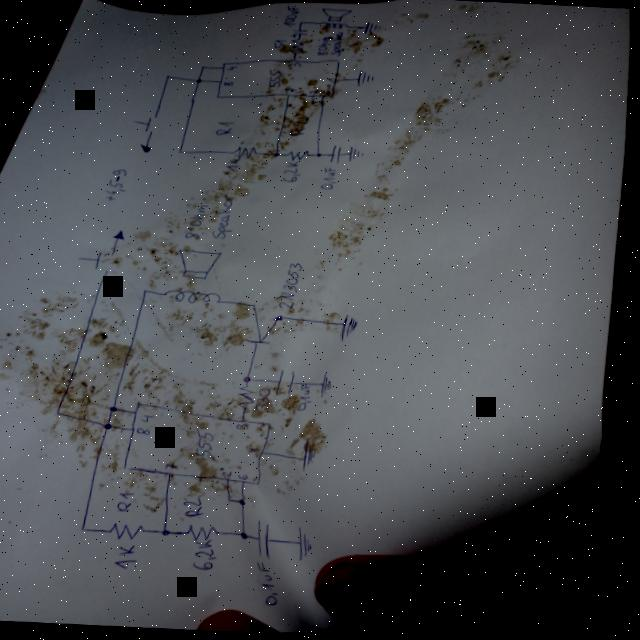capacitor: (258, 517, 287, 561), (276, 369, 300, 396), (329, 145, 344, 166), (289, 28, 309, 39)
ground: (301, 527, 323, 563), (305, 438, 325, 474), (342, 314, 364, 344), (361, 21, 383, 45), (355, 69, 377, 90), (325, 373, 340, 400), (347, 146, 367, 165)
junction: (165, 527, 178, 539), (245, 375, 258, 385), (106, 422, 120, 431), (245, 532, 256, 541), (112, 404, 123, 413), (271, 151, 282, 160), (84, 525, 95, 534), (314, 151, 324, 160), (244, 499, 253, 508), (231, 497, 240, 505), (177, 149, 186, 156), (195, 78, 203, 85), (164, 73, 171, 80), (144, 289, 151, 295), (60, 410, 66, 417), (200, 65, 206, 70), (320, 102, 326, 106), (311, 100, 317, 104), (298, 21, 304, 25)
resistor: (112, 521, 153, 543), (191, 525, 228, 544), (230, 144, 261, 161), (238, 387, 260, 409), (284, 149, 310, 164), (287, 39, 304, 57)
source: (113, 228, 130, 243), (138, 141, 156, 155)
switch: (75, 247, 119, 277), (130, 114, 160, 136)
text: (258, 561, 291, 606), (279, 261, 307, 311), (212, 193, 241, 241), (186, 203, 213, 242), (197, 538, 226, 573), (104, 168, 130, 203), (197, 427, 223, 461), (186, 487, 212, 520), (119, 484, 145, 515), (119, 542, 146, 571), (298, 385, 318, 414), (320, 166, 340, 193), (289, 116, 311, 138), (258, 387, 277, 412), (283, 162, 303, 185), (330, 31, 346, 59), (215, 119, 238, 138), (266, 68, 285, 89), (283, 5, 299, 29), (316, 36, 330, 57), (225, 158, 244, 173), (168, 460, 186, 472), (272, 38, 288, 51), (139, 425, 157, 436), (144, 414, 160, 425), (239, 424, 255, 433), (241, 472, 256, 481), (227, 469, 240, 479), (284, 86, 297, 95), (325, 76, 336, 85), (288, 62, 302, 69), (254, 447, 267, 454), (309, 89, 319, 97), (226, 65, 236, 72), (223, 81, 233, 88), (322, 91, 331, 96)
transistor: (246, 303, 289, 347)
